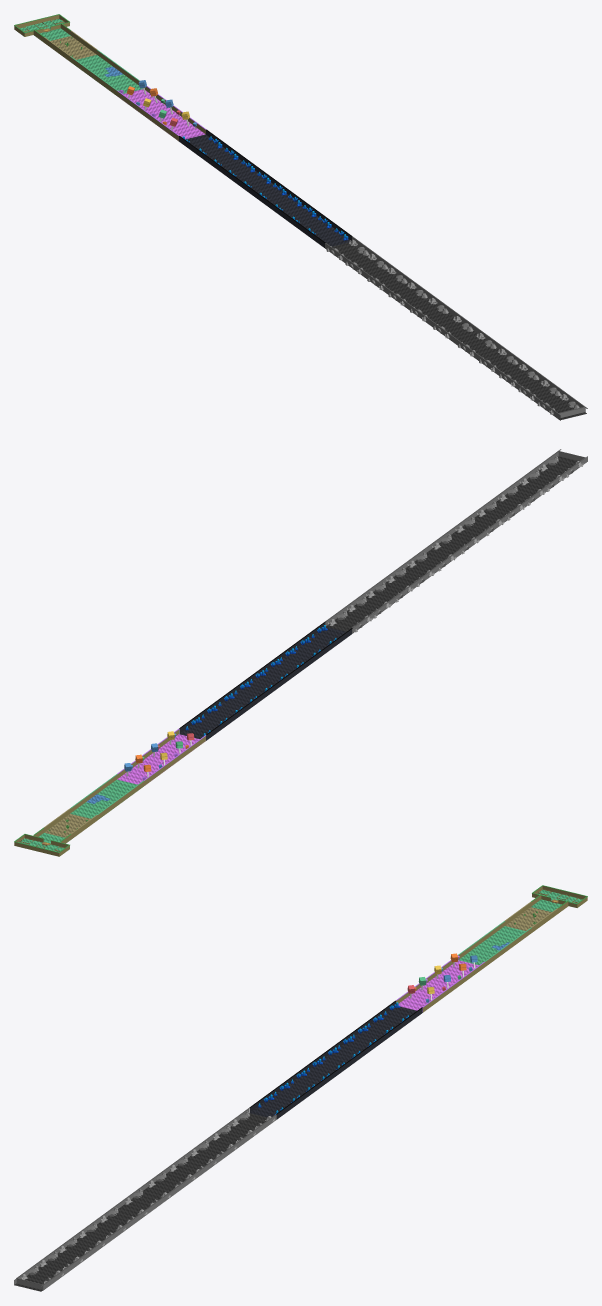
The model's file is Throw_An_Egg_Map (1).glb.
The picture shows the model from 3 angles, top to bottom: view 1: azimuth 30°, elevation 25°; view 2: azimuth 150°, elevation 25°; view 3: azimuth 330°, elevation 25°; orthographic projection.
Visible parts, largest first — view 1: Boltlands, Starfall, Candy_Kingdom, Wall_copy_copy_2_copy_copy_copy copy, Wall_copy_copy_copy_copy_copy_copy_1 copy, Bubble_Bay, Wall_copy_copy_2_copy_copy_copy, Wall_copy_copy_copy_copy_copy_copy_1, Scorching_Sands; view 2: Boltlands, Starfall, Candy_Kingdom, Wall_copy_copy_2_copy_copy_copy copy, Bubble_Bay, Wall_copy_copy_copy_copy_copy_copy_1 copy, Wall_copy_copy_2_copy_copy_copy, Wall_copy_copy_copy_copy_copy_copy_1, Scorching_Sands; view 3: Boltlands, Starfall, Wall_copy_copy_copy_copy_copy_copy_1 copy, Candy_Kingdom, Bubble_Bay, Wall_copy_copy_copy_copy_copy_copy_1, Wall_copy_copy_2_copy_copy_copy copy, Wall_copy_copy_2_copy_copy_copy, Scorching_Sands.
Part boxes in pixels (left/top/right/bottom): Boltlands: left=326, top=242, right=586, bottom=419; Starfall: left=182, top=134, right=350, bottom=246; Candy_Kingdom: left=117, top=89, right=205, bottom=139; Wall_copy_copy_2_copy_copy_copy copy: left=325, top=243, right=560, bottom=420; Wall_copy_copy_copy_copy_copy_copy_1 copy: left=352, top=237, right=585, bottom=411; Bubble_Bay: left=70, top=55, right=142, bottom=95; Wall_copy_copy_2_copy_copy_copy: left=179, top=136, right=324, bottom=247; Wall_copy_copy_copy_copy_copy_copy_1: left=206, top=130, right=351, bottom=240; Scorching_Sands: left=44, top=36, right=96, bottom=59; Boltlands: left=326, top=456, right=586, bottom=632; Starfall: left=179, top=627, right=352, bottom=738; Candy_Kingdom: left=117, top=734, right=203, bottom=785; Wall_copy_copy_2_copy_copy_copy copy: left=352, top=456, right=587, bottom=633; Bubble_Bay: left=70, top=779, right=142, bottom=819; Wall_copy_copy_copy_copy_copy_copy_1 copy: left=325, top=452, right=558, bottom=625; Wall_copy_copy_2_copy_copy_copy: left=206, top=629, right=351, bottom=740; Wall_copy_copy_copy_copy_copy_copy_1: left=179, top=623, right=325, bottom=733; Scorching_Sands: left=44, top=814, right=91, bottom=838; Boltlands: left=14, top=1113, right=267, bottom=1291; Starfall: left=250, top=1006, right=422, bottom=1117; Wall_copy_copy_copy_copy_copy_copy_1 copy: left=43, top=1115, right=276, bottom=1290; Candy_Kingdom: left=398, top=960, right=478, bottom=1011; Bubble_Bay: left=458, top=926, right=525, bottom=965; Wall_copy_copy_copy_copy_copy_copy_1: left=276, top=1008, right=422, bottom=1119; Wall_copy_copy_2_copy_copy_copy copy: left=14, top=1108, right=249, bottom=1285; Wall_copy_copy_2_copy_copy_copy: left=250, top=1001, right=395, bottom=1112; Scorching_Sands: left=505, top=907, right=551, bottom=930.
Size of what is drawn, in the model's own units: 178 by 54.8 by 3640.
Materials: 453 (13 with a texture image).
